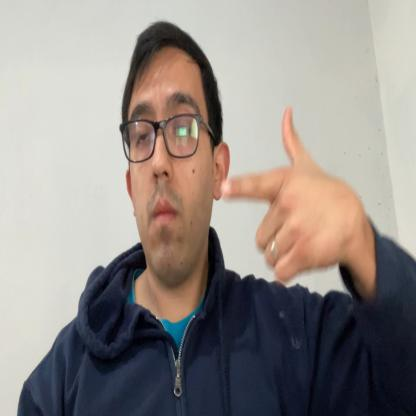G: (223, 106, 343, 280)
